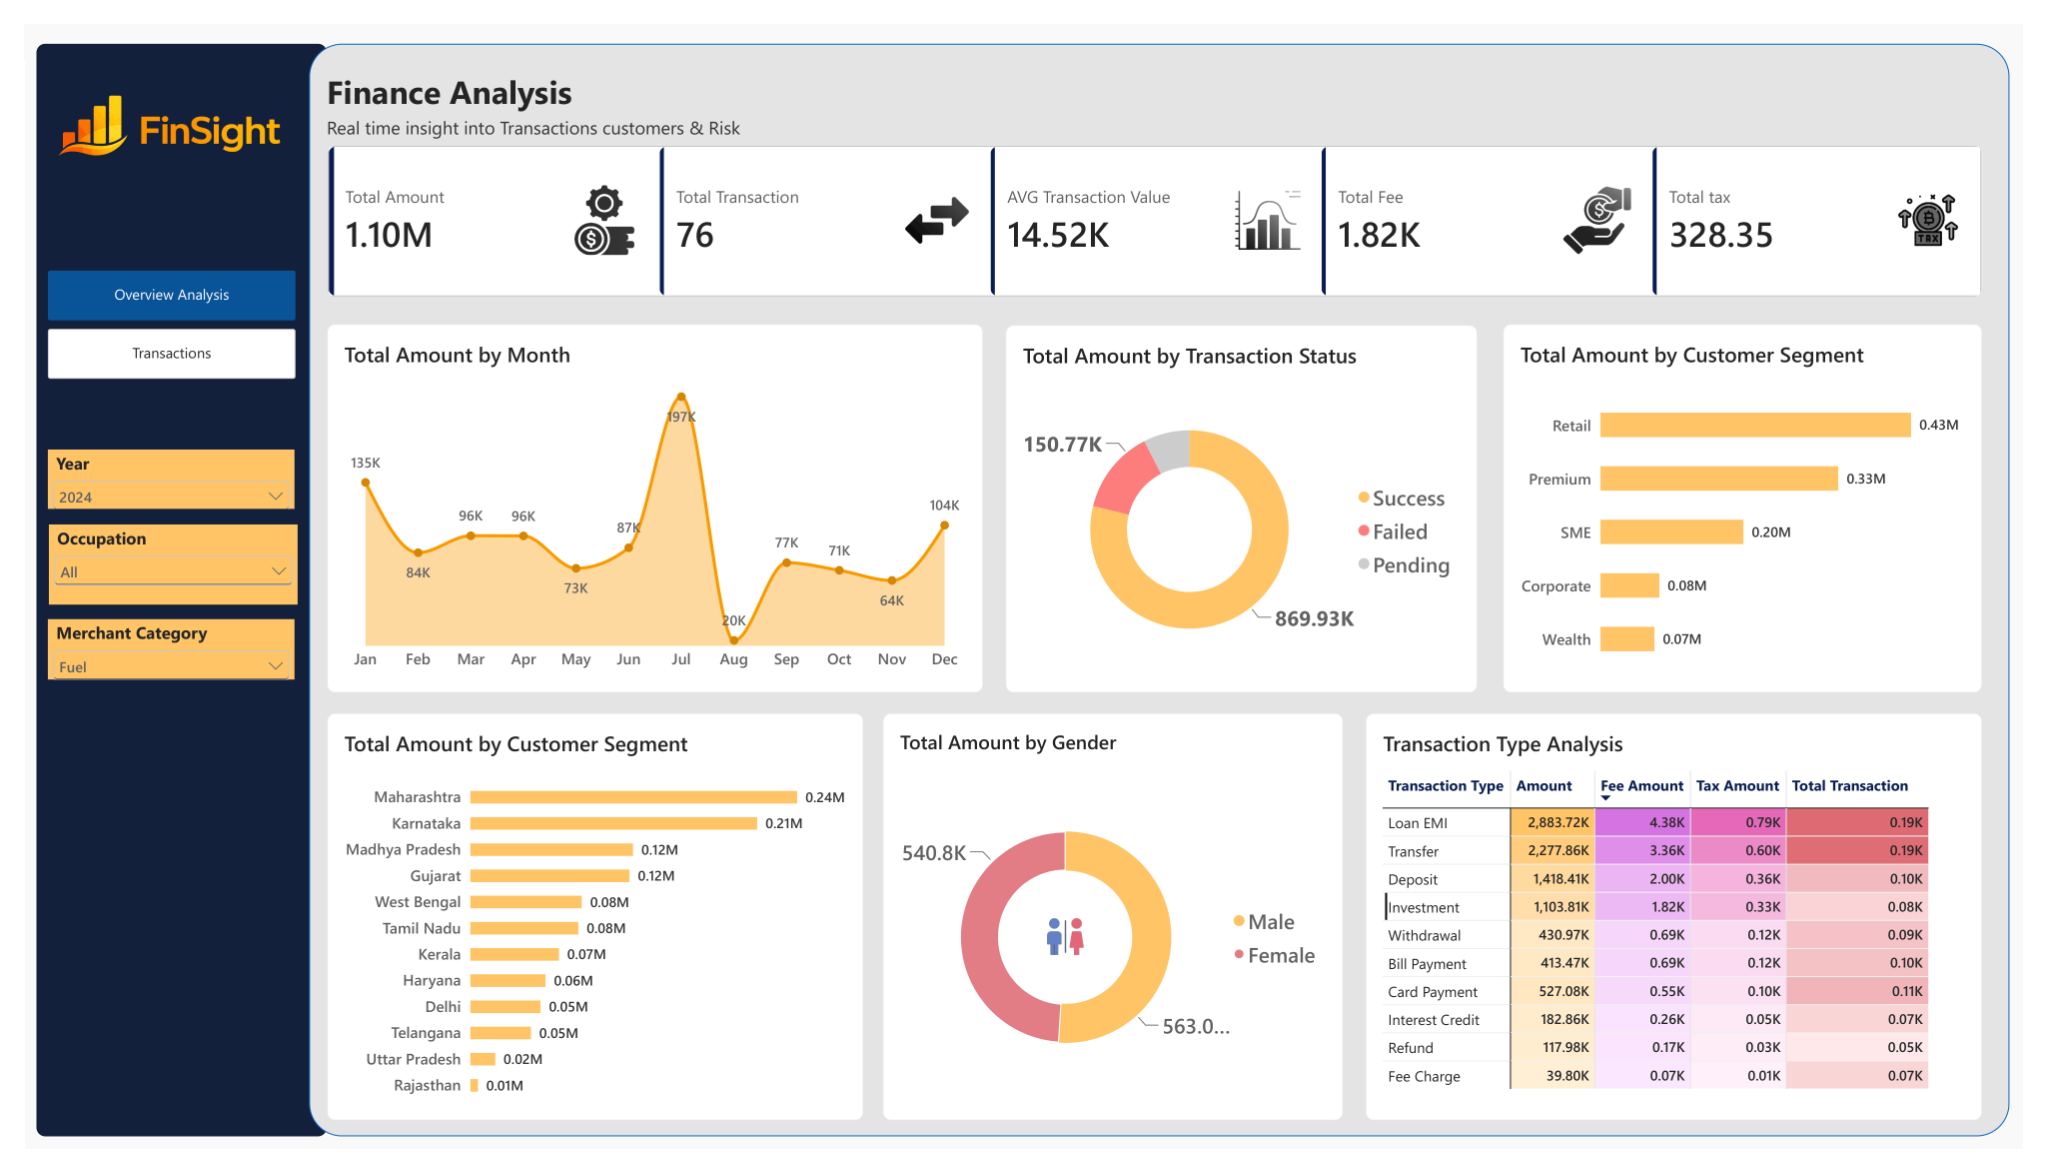

This screenshot's page, from the dashboard's own definition file:
{"tool":"powerbi","page":{"name":"Overview Analysis","canvas":[1920,1080],"ordinal":0},"visuals":[{"type":"shape","box":[10.9,18.1,278.7,1049.6],"z":0},{"type":"shape","box":[273.3,18.1,1634.1,1049.6],"z":1000},{"type":"image","box":[22.3,54,238.2,87.5],"z":2000},{"type":"cardVisual","fields":{"Data":["finance_transactions.Dashboard Title"]},"box":[290.3,18.6,445.2,115.8],"z":3000},{"type":"cardVisual","fields":{"Data":["finance_transactions.Total Amount","finance_transactions.Total Transaction","finance_transactions.AVG Transaction Value","finance_transactions.Total Fee","finance_transactions.Total tax"]},"box":[290.3,115.4,1591,147],"z":4000},{"type":"slicer","fields":{"Values":["Calender Table.Year"]},"box":[22.3,407.5,237.1,57.9],"z":5000},{"type":"lineChart","title":"Total Amount by Month","fields":{"Category":["Calender Table.Month"],"Y":["Sum(finance_transactions.amount)"]},"box":[290.3,286.6,630.8,355.4],"z":6000},{"type":"donutChart","title":"Total Amount by Transaction Status","fields":{"Category":["finance_transactions.transaction_status"],"Y":["Sum(finance_transactions.amount)"]},"box":[941.6,288.4,454,353.6],"z":7000},{"type":"clusteredBarChart","title":"Total Amount by Customer Segment","fields":{"Category":["customers.customer_segment"],"Y":["Sum(finance_transactions.amount)"]},"box":[1419.8,286.6,461.5,355.4],"z":8000},{"type":"donutChart","title":"Total Amount by Gender","fields":{"Category":["customers.gender"],"Y":["Sum(finance_transactions.amount)"]},"box":[824.3,660.6,442.9,392.6],"z":9000},{"type":"pivotTable","title":"Transaction Type Analysis","fields":{"Rows":["finance_transactions.transaction_type"],"Values":["Sum(finance_transactions.amount)","Sum(finance_transactions.fee_amount)","Sum(finance_transactions.tax_amount)","finance_transactions.Total Transaction"]},"box":[1287.7,660.6,593.6,392.6],"z":10000},{"type":"slicer","fields":{"Values":["customers.occupation"]},"box":[22.8,479.6,238.9,77.8],"z":11000},{"type":"slicer","fields":{"Values":["finance_transactions.merchant_category"]},"box":[22.3,571.3,237.1,57.9],"z":12000},{"type":"clusteredBarChart","title":"Total Amount by Customer Segment","fields":{"Category":["customers.state"],"Y":["Sum(finance_transactions.amount)"]},"box":[290.3,660.6,515.5,392.6],"z":13000},{"type":"pageNavigator","box":[22.3,236.3,238.2,104.2],"z":13001}]}

Visuals, with their boxes in screenshot pixels (x1, y1, x2, y2), scaled from the page's 1920x1080 canvas onto the 2048x1173 screenshot:
shape: box(12, 20, 309, 1160)
shape: box(292, 20, 2035, 1160)
image: box(24, 59, 278, 154)
cardVisual - finance_transactions.Dashboard Title: box(310, 20, 785, 146)
cardVisual - finance_transactions.Total Amount x finance_transactions.Total Transaction: box(310, 125, 2007, 285)
slicer - Calender Table.Year: box(24, 443, 277, 505)
"Total Amount by Month" lineChart: box(310, 311, 983, 697)
"Total Amount by Transaction Status" donutChart: box(1004, 313, 1489, 697)
"Total Amount by Customer Segment" clusteredBarChart: box(1514, 311, 2007, 697)
"Total Amount by Gender" donutChart: box(879, 717, 1352, 1144)
"Transaction Type Analysis" pivotTable: box(1374, 717, 2007, 1144)
slicer - customers.occupation: box(24, 521, 279, 605)
slicer - finance_transactions.merchant_category: box(24, 620, 277, 683)
"Total Amount by Customer Segment" clusteredBarChart: box(310, 717, 860, 1144)
pageNavigator: box(24, 257, 278, 370)
